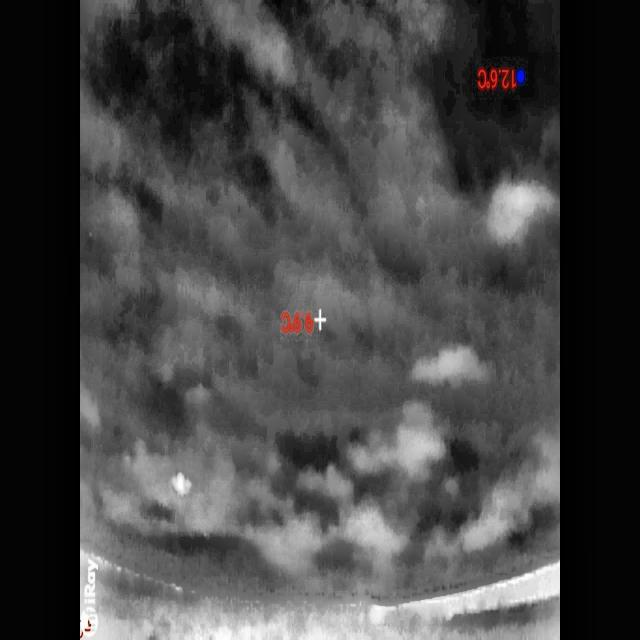drone: (170, 468, 192, 500)
